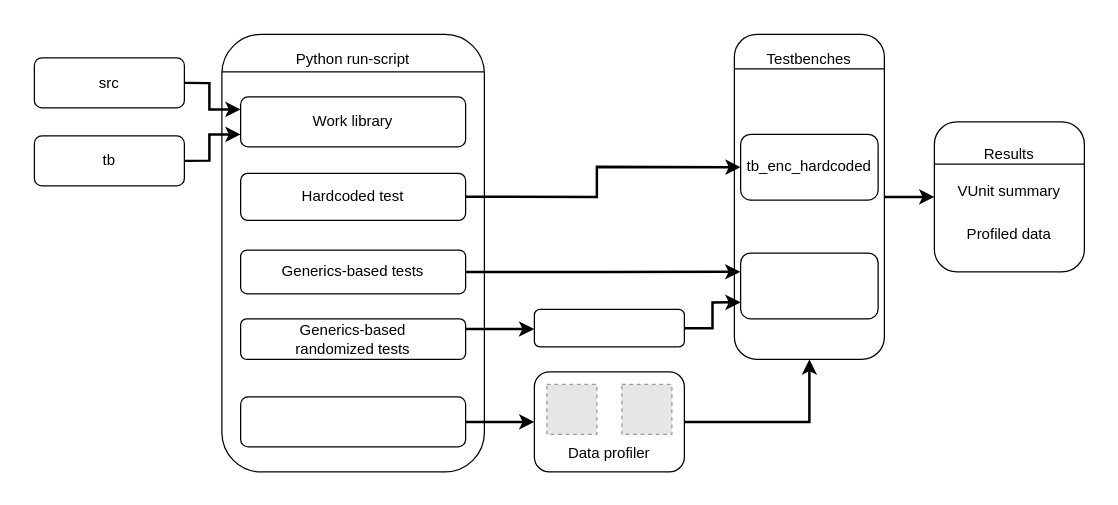
The diagram is 1118 pixels wide and 505 high, and some of its shapes have lost their labels. Grey dashed boxes stand in for pictures. The centre of each missing label's shape, as x and y in pixels:
rand_enc: the point at 608,327
Simulation flag setting: the point at 352,421
tb_enc_generics: the point at 808,285
